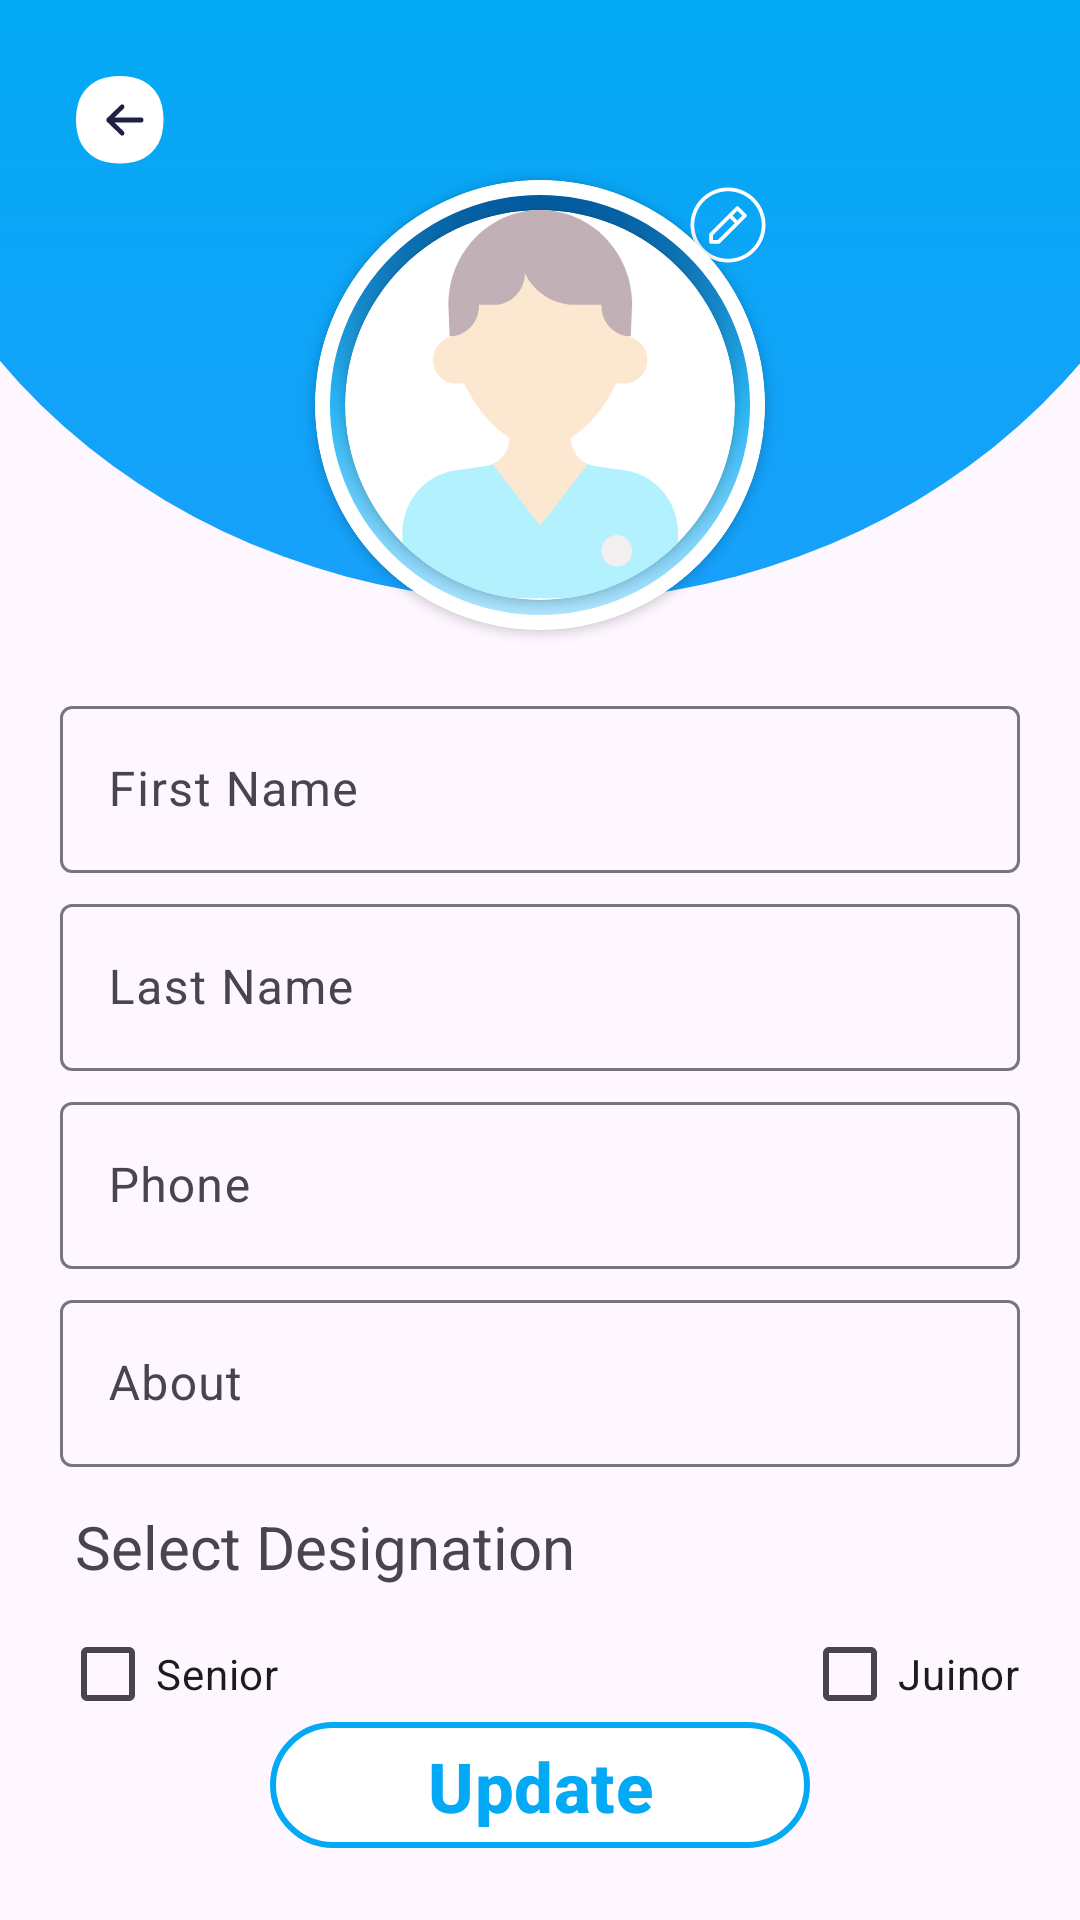

Locate icon controls on the screen. Image size 1080px×1920px, boxes as [x1, y1, x2, y2].
back: [76, 76, 164, 164]
edit circle whit: [683, 187, 766, 270]
